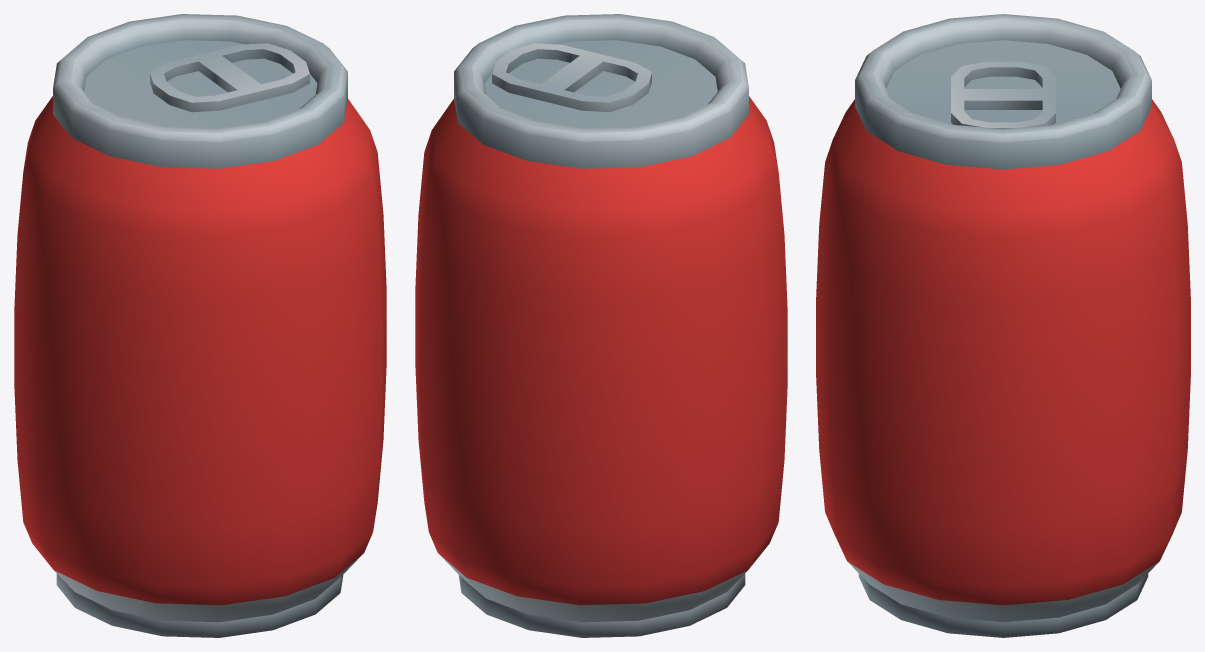
File: can_008.fbx
3 renders of one model, left to right at view 1: azimuth 30°, elevation 25°; view 2: azimuth 150°, elevation 25°; view 3: azimuth 270°, elevation 25°, orthographic.
Visible parts, largest first — view 1: can_008; view 2: can_008; view 3: can_008.
Boxes of the visible parts, left/top/right/bottom form: can_008: left=14, top=14, right=386, bottom=637; can_008: left=415, top=14, right=787, bottom=637; can_008: left=816, top=14, right=1190, bottom=637.
Bounding box in the file's own units: 7.77 × 7.77 × 11.64.
